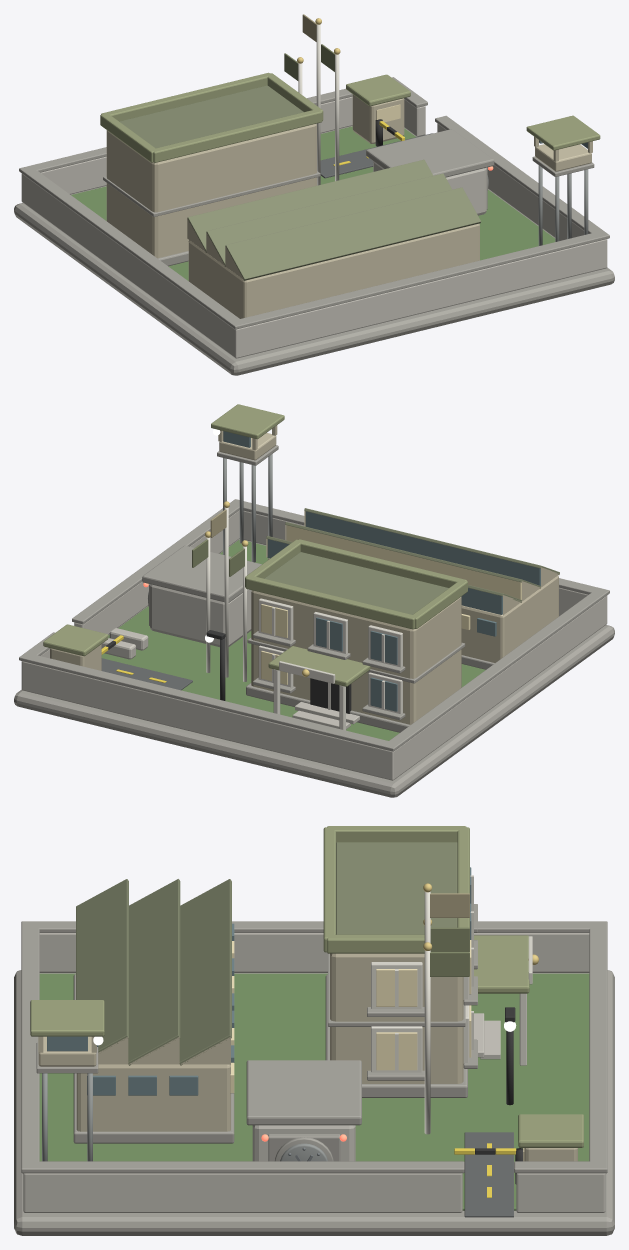
The model's file is treasury_7.glb.
3 views of the same model, one above another, from view 1: azimuth 30°, elevation 25°; view 2: azimuth 150°, elevation 25°; view 3: azimuth 270°, elevation 25° (orthographic). The views are drawn at different scales.
Parts seen in each view (by area): view 1: Cube.034, Cube, Cube.014, Cube.089, Cube.029, Cube.091, Cube.065, Cube.001, Cube.031, Cube.033, Cube.090, Cube.082 (+19 smaller); view 2: Cube.087, Cube, Cube.034, Cube.001, Cube.091, Cube.065, Cube.081, Cube.014, Cube.028, Cube.088, Cube.082, Cube.092 (+29 smaller); view 3: Cube.001, Cube, Cube.095, Cube.065, Cube.034, Cube.014, Cube.033, Cube.031, Cube.082, Cube.091, Cube.029, Cube.096 (+39 smaller).
Part boxes in pixels (x1,y1,x2,y2): Cube.034: (106, 124, 316, 258); Cube: (14, 126, 614, 375); Cube.014: (188, 223, 479, 318); Cube.089: (231, 239, 607, 358); Cube.029: (225, 187, 481, 280); Cube.091: (24, 175, 231, 354); Cube.065: (119, 85, 303, 148); Cube.001: (71, 126, 555, 280); Cube.031: (206, 173, 451, 266); Cube.033: (187, 159, 433, 252); Cube.090: (229, 233, 609, 329); Cube.082: (366, 129, 494, 177); Cube.087: (21, 661, 396, 780); Cube: (14, 539, 614, 797); Cube.034: (251, 590, 461, 724); Cube.001: (101, 539, 485, 740); Cube.091: (396, 598, 603, 777); Cube.065: (264, 552, 448, 614); Cube.081: (150, 584, 251, 647); Cube.014: (268, 558, 558, 662); Cube.028: (305, 511, 540, 585); Cube.088: (19, 654, 400, 751); Cube.082: (142, 545, 261, 602); Cube.092: (386, 590, 606, 748); Cube.001: (39, 973, 589, 1210); Cube: (14, 970, 614, 1235); Cube.095: (32, 1173, 462, 1212); Cube.065: (336, 842, 457, 934); Cube.034: (330, 953, 463, 1083); Cube.014: (76, 1064, 230, 1131); Cube.033: (179, 879, 231, 1065); Cube.031: (128, 879, 180, 1065); Cube.082: (246, 1060, 361, 1125); Cube.091: (39, 933, 589, 972); Cube.029: (76, 879, 128, 1052); Cube.096: (29, 1161, 464, 1173).
Bounding box in the file's own units: 2.92 × 1.39 × 2.92.
